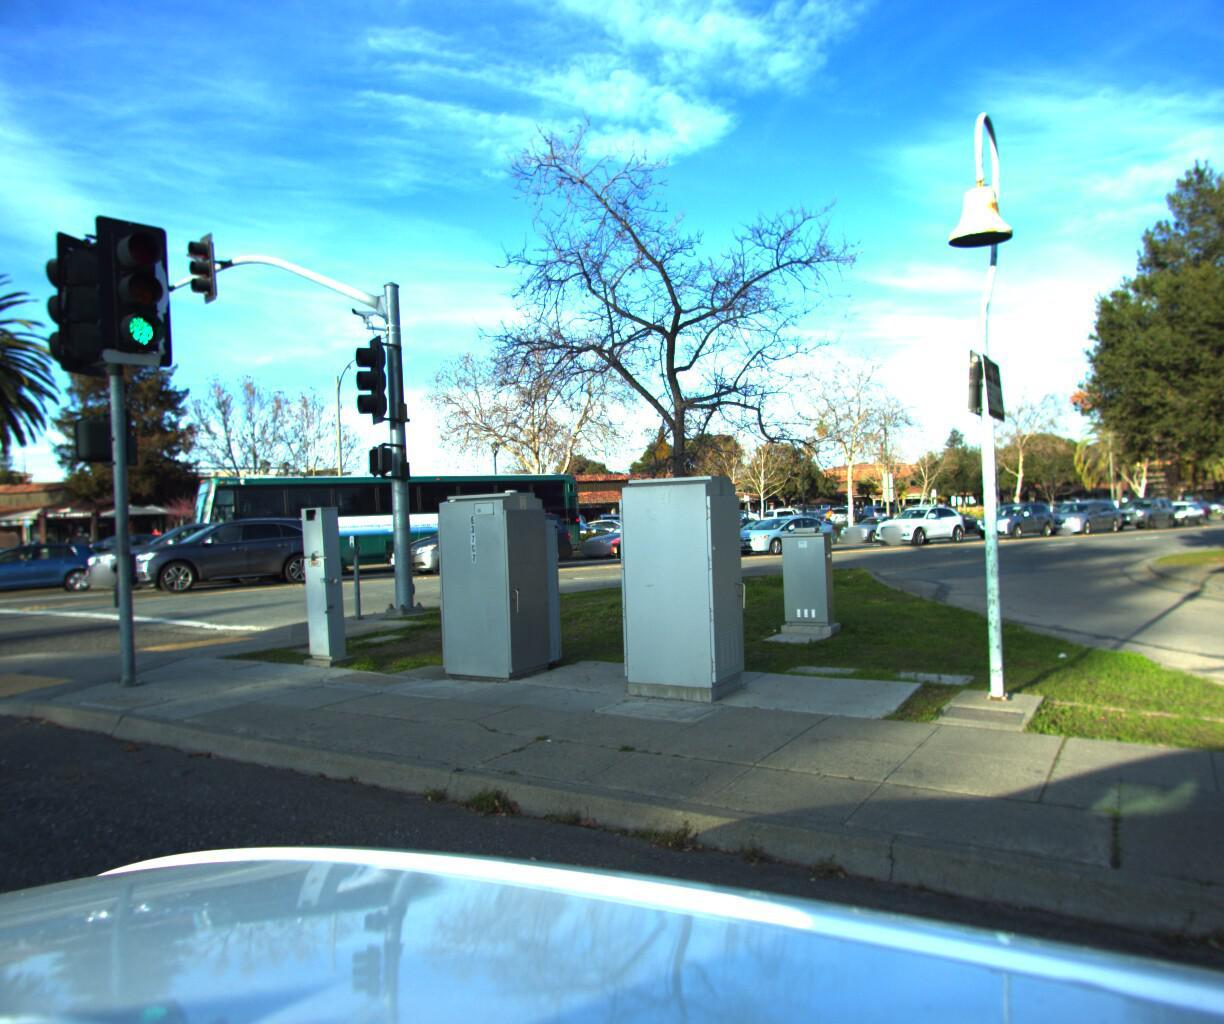bus: (169, 459, 590, 589)
car: (113, 506, 344, 596), (80, 509, 289, 591), (388, 500, 584, 576), (377, 513, 532, 569), (606, 506, 729, 559), (598, 509, 723, 558), (569, 509, 693, 558), (721, 503, 843, 552), (864, 495, 971, 540), (967, 491, 1062, 533), (1036, 489, 1131, 530), (1102, 484, 1183, 527), (563, 510, 661, 546), (834, 506, 919, 540), (1146, 489, 1206, 520)
